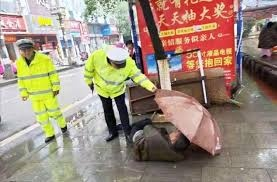falling: (124, 111, 191, 167)
